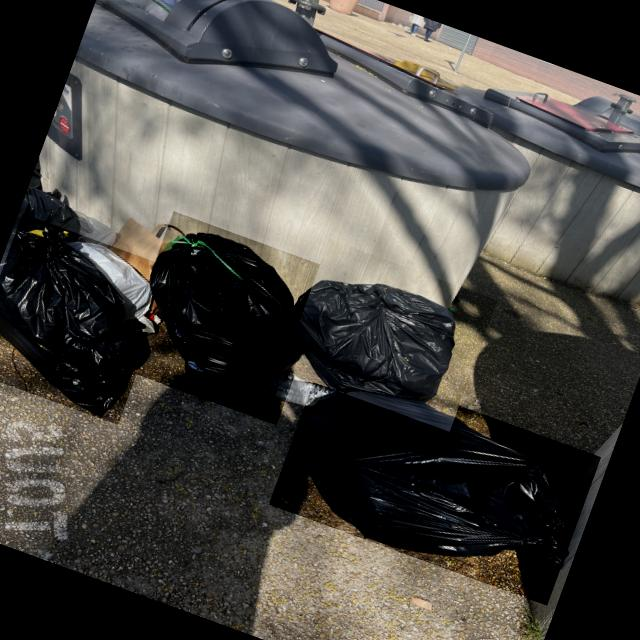Garbage bag: (268, 356, 602, 606), (116, 212, 333, 426), (282, 239, 498, 432), (0, 213, 174, 425)
